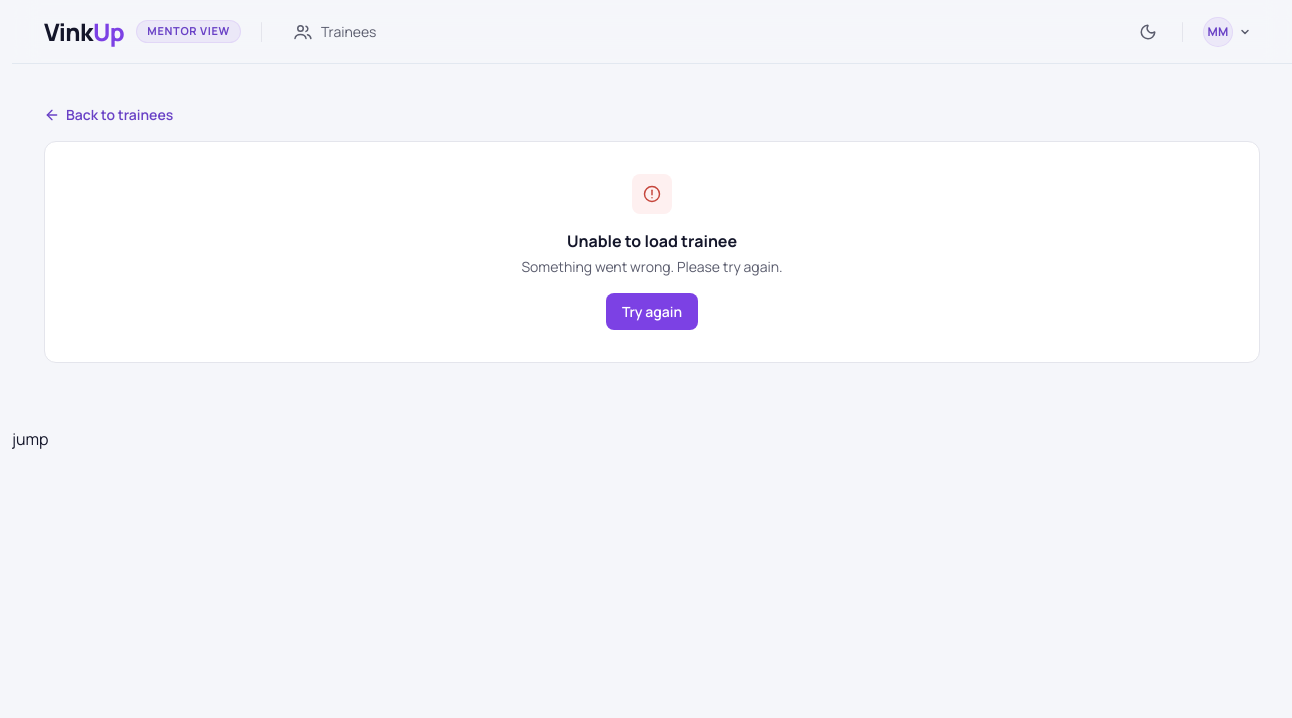
Scenario: AdminTraineePage › shows an error with a retry for any other failure, and loads again on retry
Expected: the message shows "Unable to load trainee", [567,230,737,252]
Expected: the link "Back to trainees" is shown, [44,104,173,125]
Click the button "Try again".
click(652, 312)  # box [606,293,698,330]
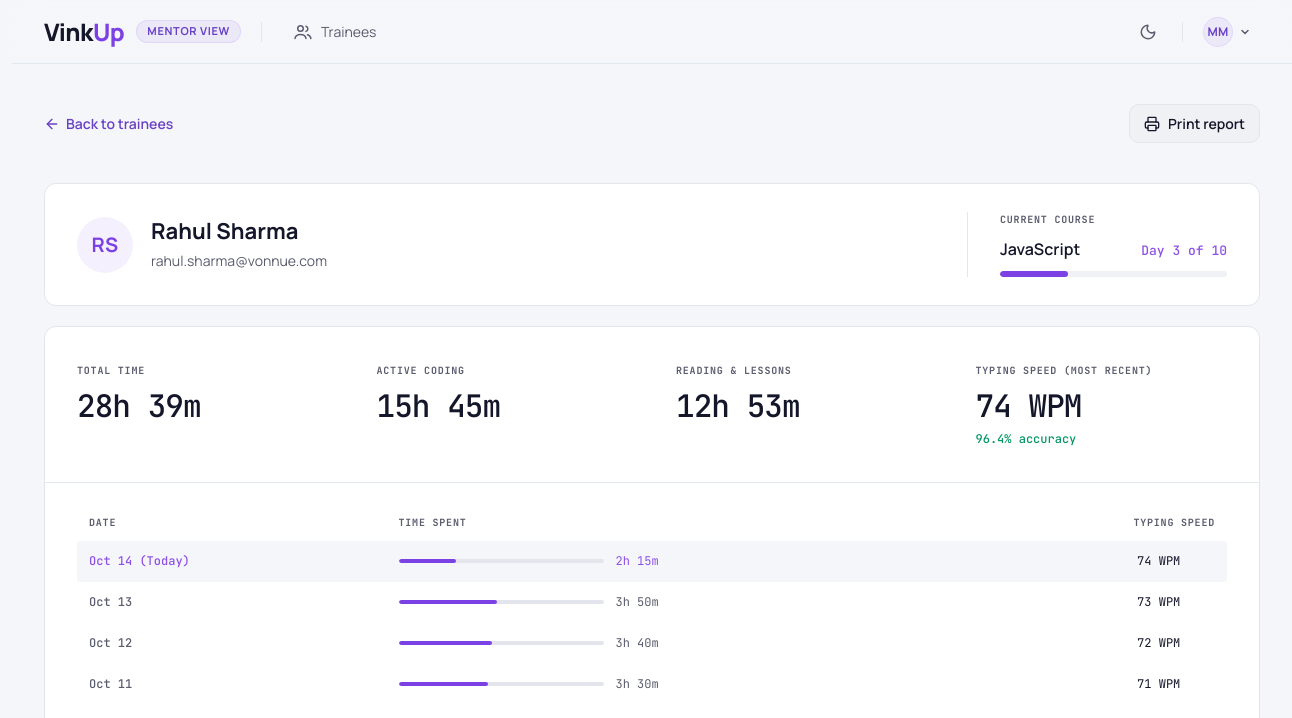
Expected: the heading "Rahul Sharma" is shown, [151,216,298,246]
